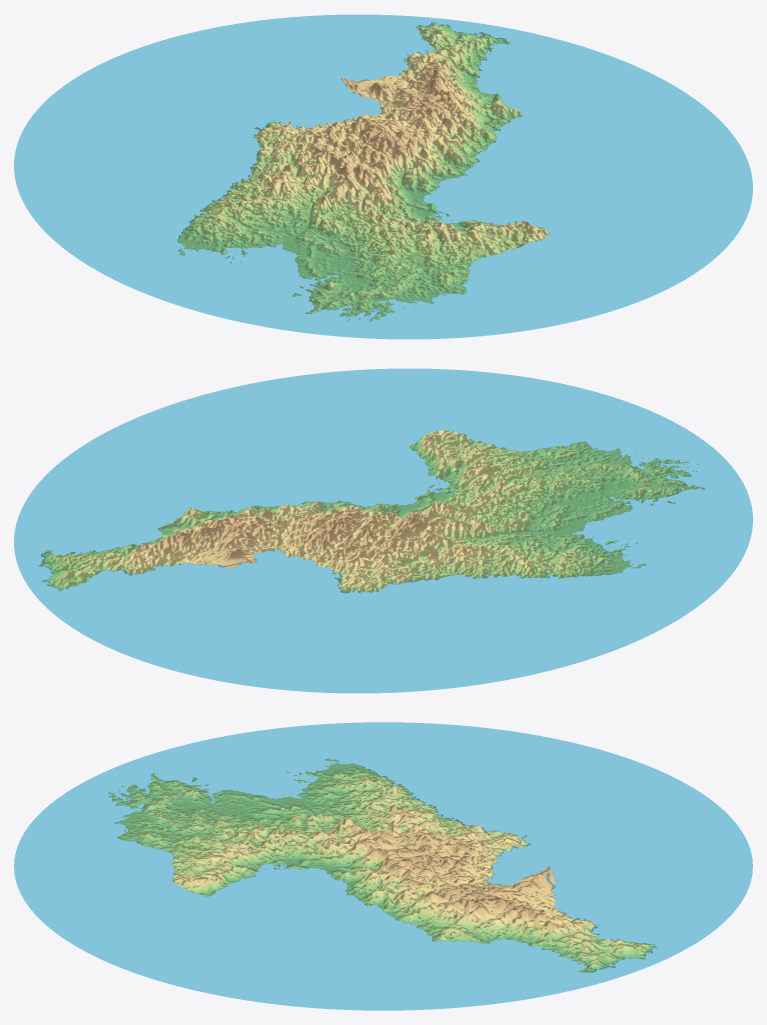
File: PRK-terrain.glb
3 renders of one model, top to bottom at view 1: azimuth 30°, elevation 25°; view 2: azimuth 150°, elevation 25°; view 3: azimuth 270°, elevation 25°, orthographic. The views are drawn at different scales.
Visible parts, largest first — view 1: Relevo com hidrografia; view 2: Relevo com hidrografia; view 3: Relevo com hidrografia.
Boxes of the visible parts, bbox=[...] form: Relevo com hidrografia: bbox=[14, 14, 752, 339]; Relevo com hidrografia: bbox=[14, 368, 752, 693]; Relevo com hidrografia: bbox=[14, 722, 752, 1010].
Bounding box in the file's own units: 2 × 0.0694 × 2.17.
Materials: 2 (1 with a texture image).
